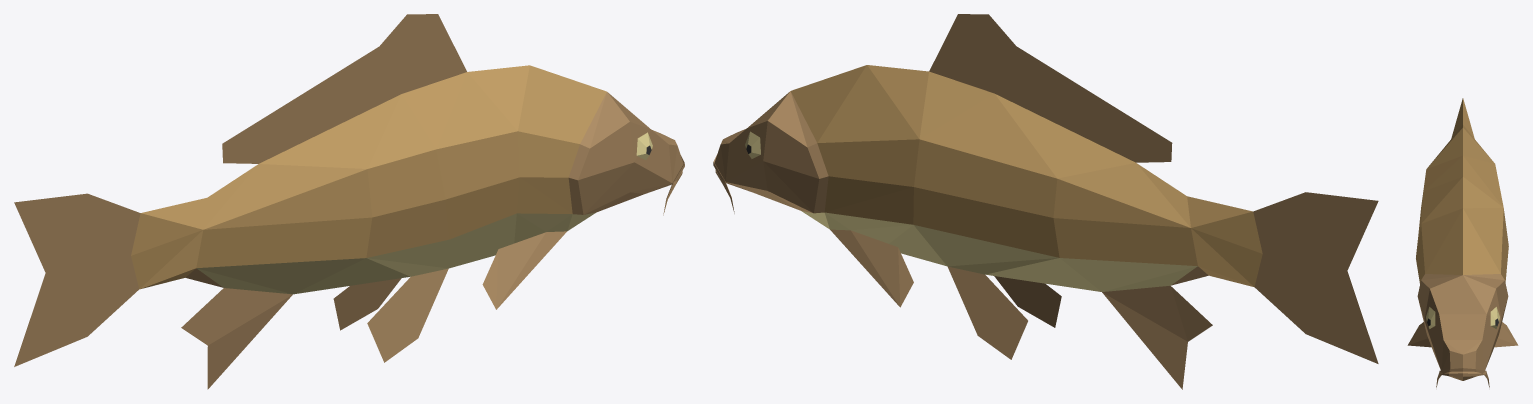
File: Common Carp.fbx
3 views of the same model, side by side, from view 1: azimuth 30°, elevation 25°; view 2: azimuth 150°, elevation 25°; view 3: azimuth 270°, elevation 25° (orthographic). The views are drawn at different scales.
Visible parts, largest first — view 1: Common Carp; view 2: Common Carp; view 3: Common Carp.
Part boxes in pixels (x1,y1,x2,y2): Common Carp: (14, 14, 684, 389); Common Carp: (713, 14, 1378, 389); Common Carp: (1407, 98, 1518, 387).
Bounding box in the file's own units: 3.15 × 1.49 × 0.5626.
